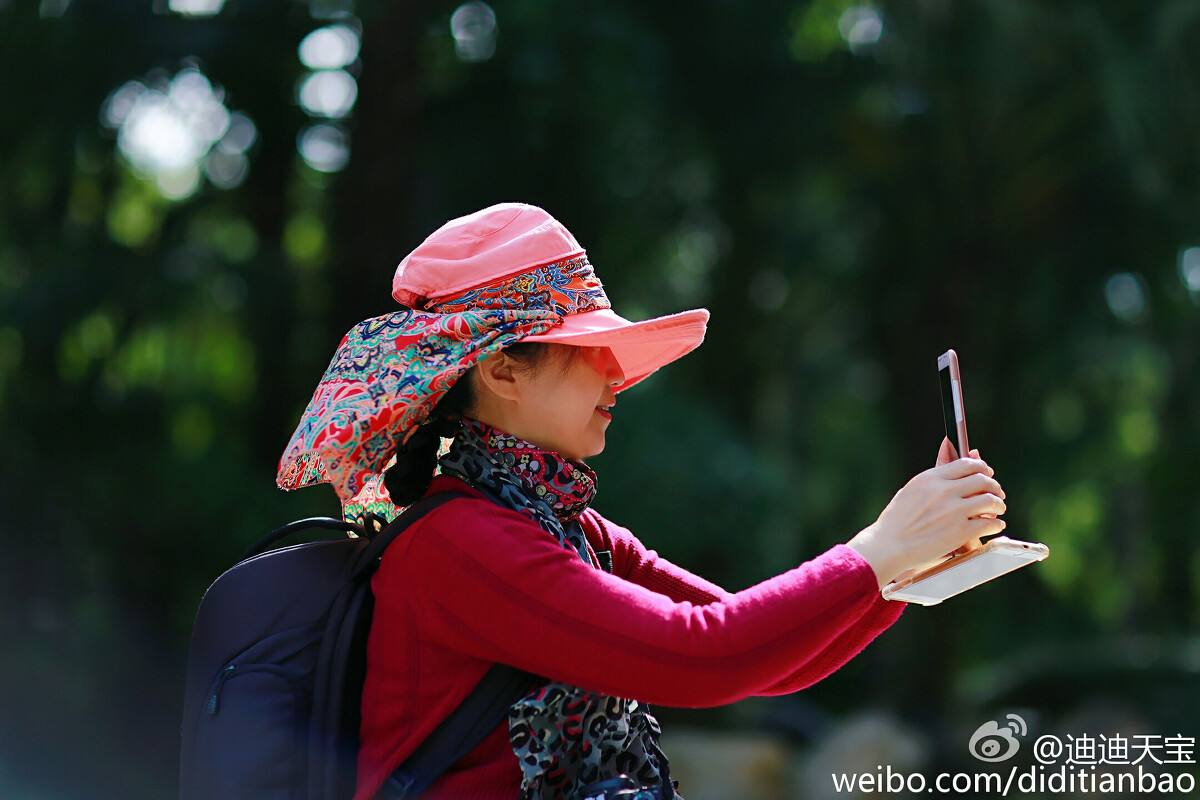taking photos: (858, 341, 1010, 585)
